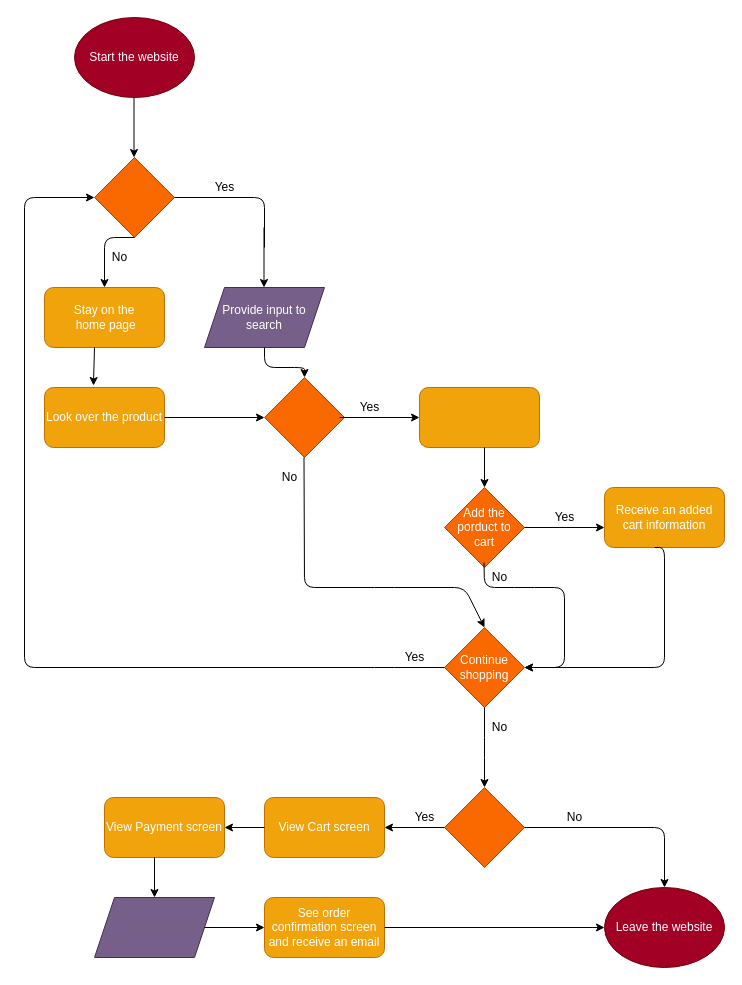
Some shapes in this 742 by 985 pixel diagram are drawn without their labels. The centre of each missing label's shape, as x and y in pixels:
"checkout" belongs at pixel 484 827.
"Input your payment information" belongs at pixel 154 927.
"Open the page of that product" belongs at pixel 479 417.
"Search for a priduct" belongs at pixel 134 197.
"View a specific product" belongs at pixel 304 417.
